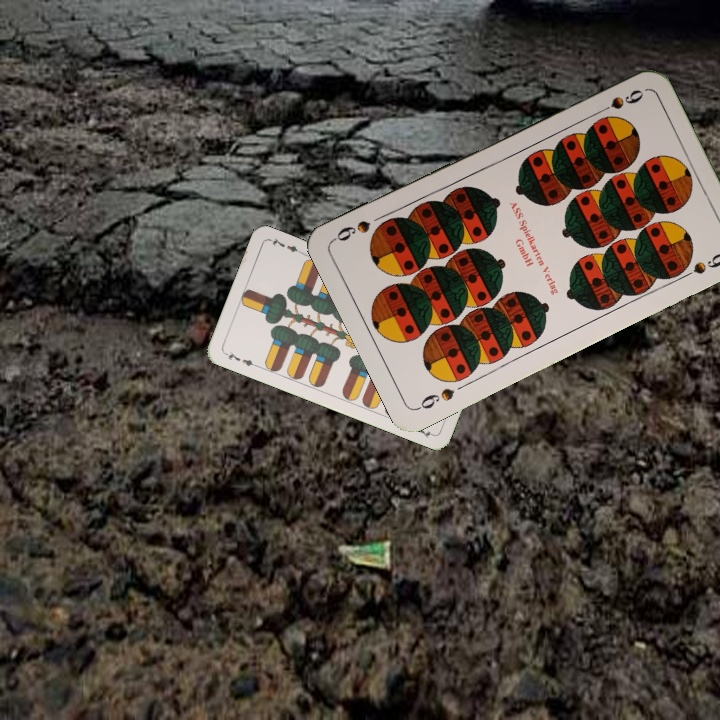E7: (221, 347, 260, 370)
S9: (591, 85, 646, 118), (413, 384, 458, 413)
